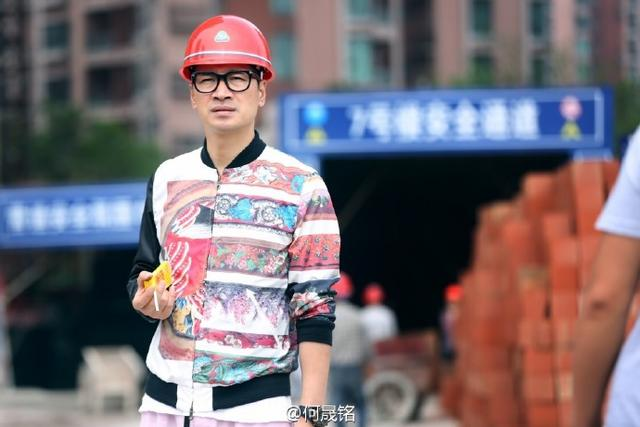helmet: (174, 23, 276, 75)
